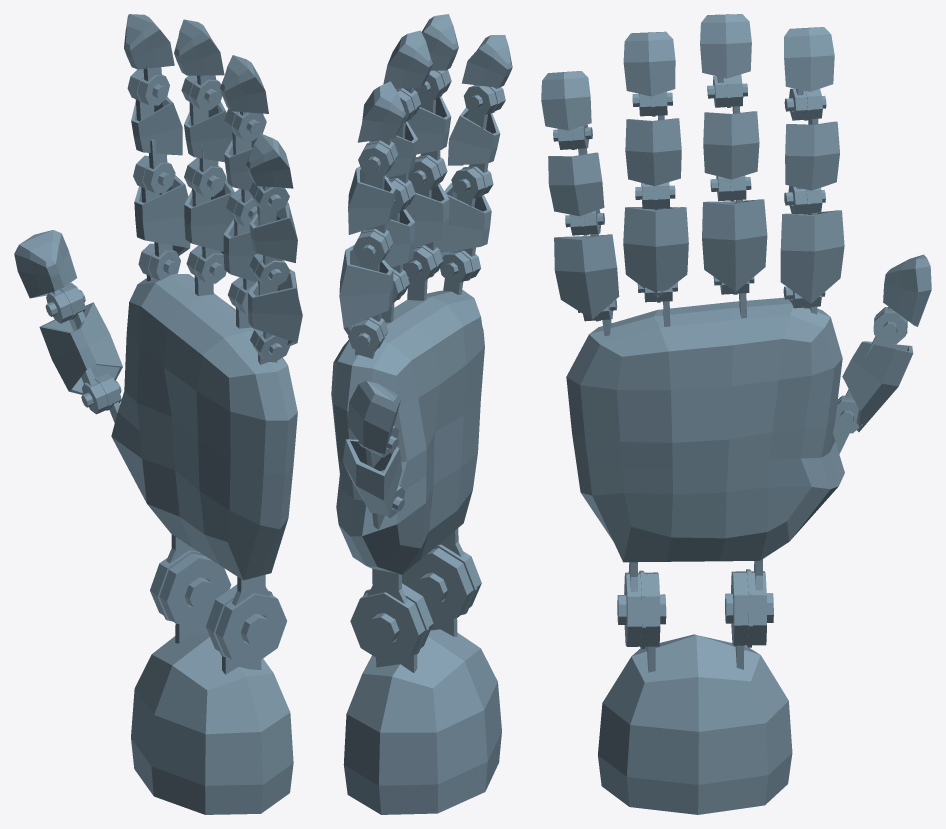
File: roboticHand.glb
3 renders of one model, left to right at view 1: azimuth 30°, elevation 25°; view 2: azimuth 150°, elevation 25°; view 3: azimuth 270°, elevation 25°, orthographic. The views are drawn at different scales.
Visible parts, largest first — view 1: roboticHand; view 2: roboticHand; view 3: roboticHand.
Boxes of the visible parts, x1=… form: roboticHand: x1=14, y1=14, x2=302, y2=814; roboticHand: x1=331, y1=14, x2=512, y2=814; roboticHand: x1=541, y1=14, x2=931, y2=814.
Bounding box in the file's own units: 0.1303 × 0.6329 × 0.2893.
